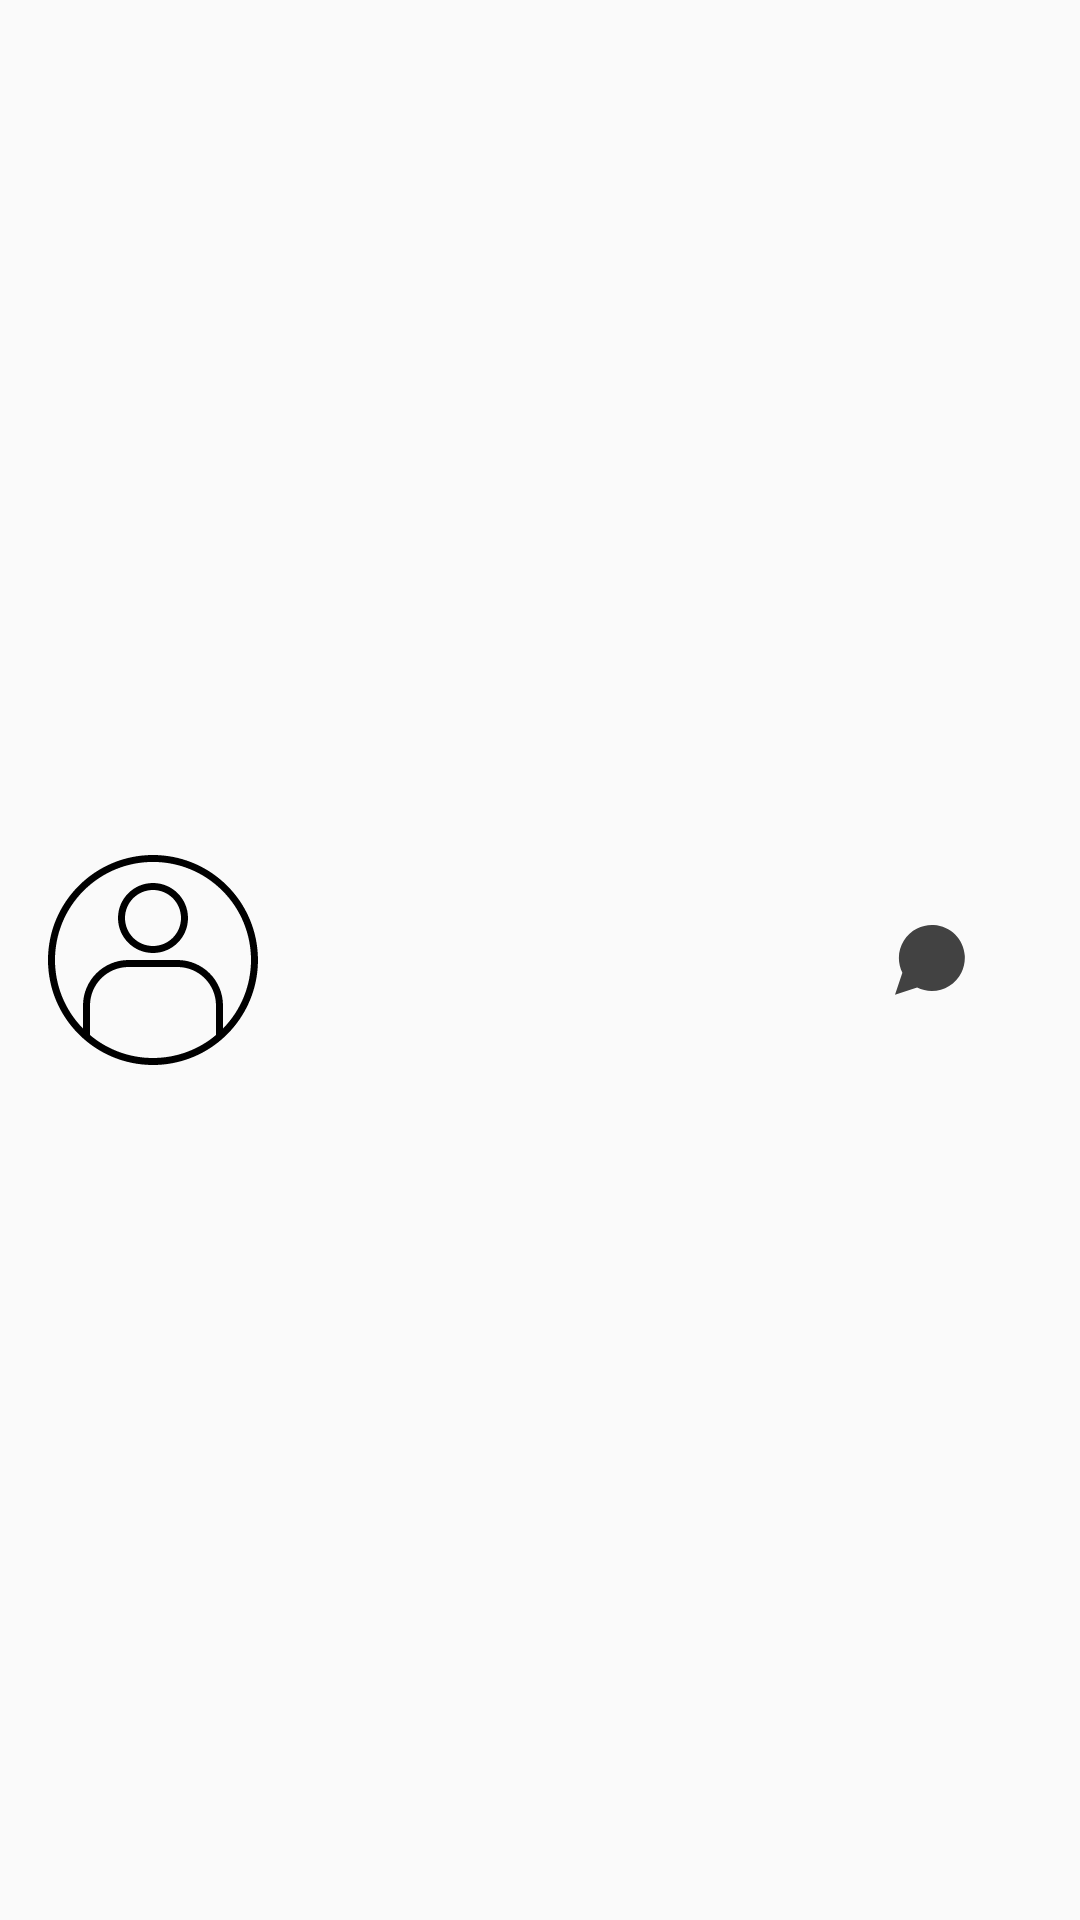

Where to tap for icons on this 1080px×1920px app screen, as [x,y]:
user: [153,960]
